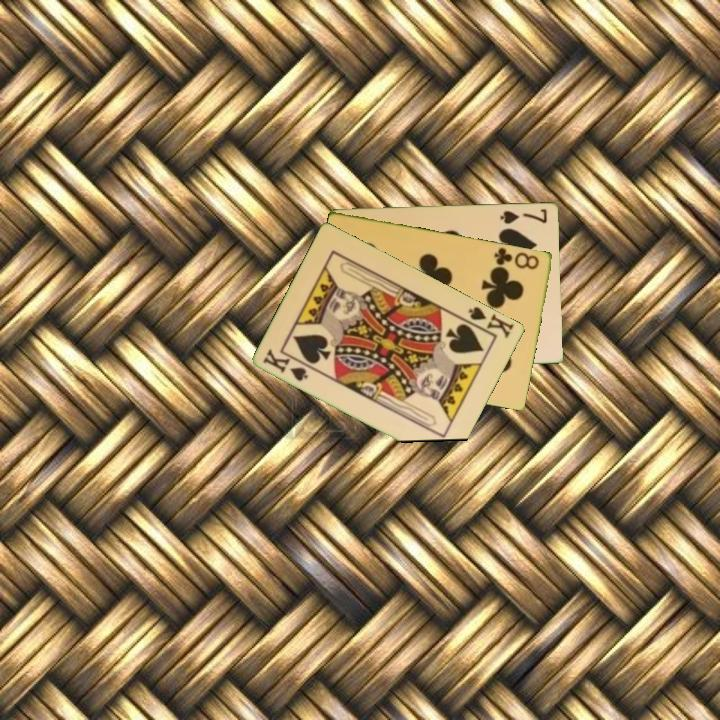7s: (497, 205, 550, 226)
8c: (491, 244, 542, 272)
Ks: (260, 345, 312, 384), (465, 303, 517, 341)
